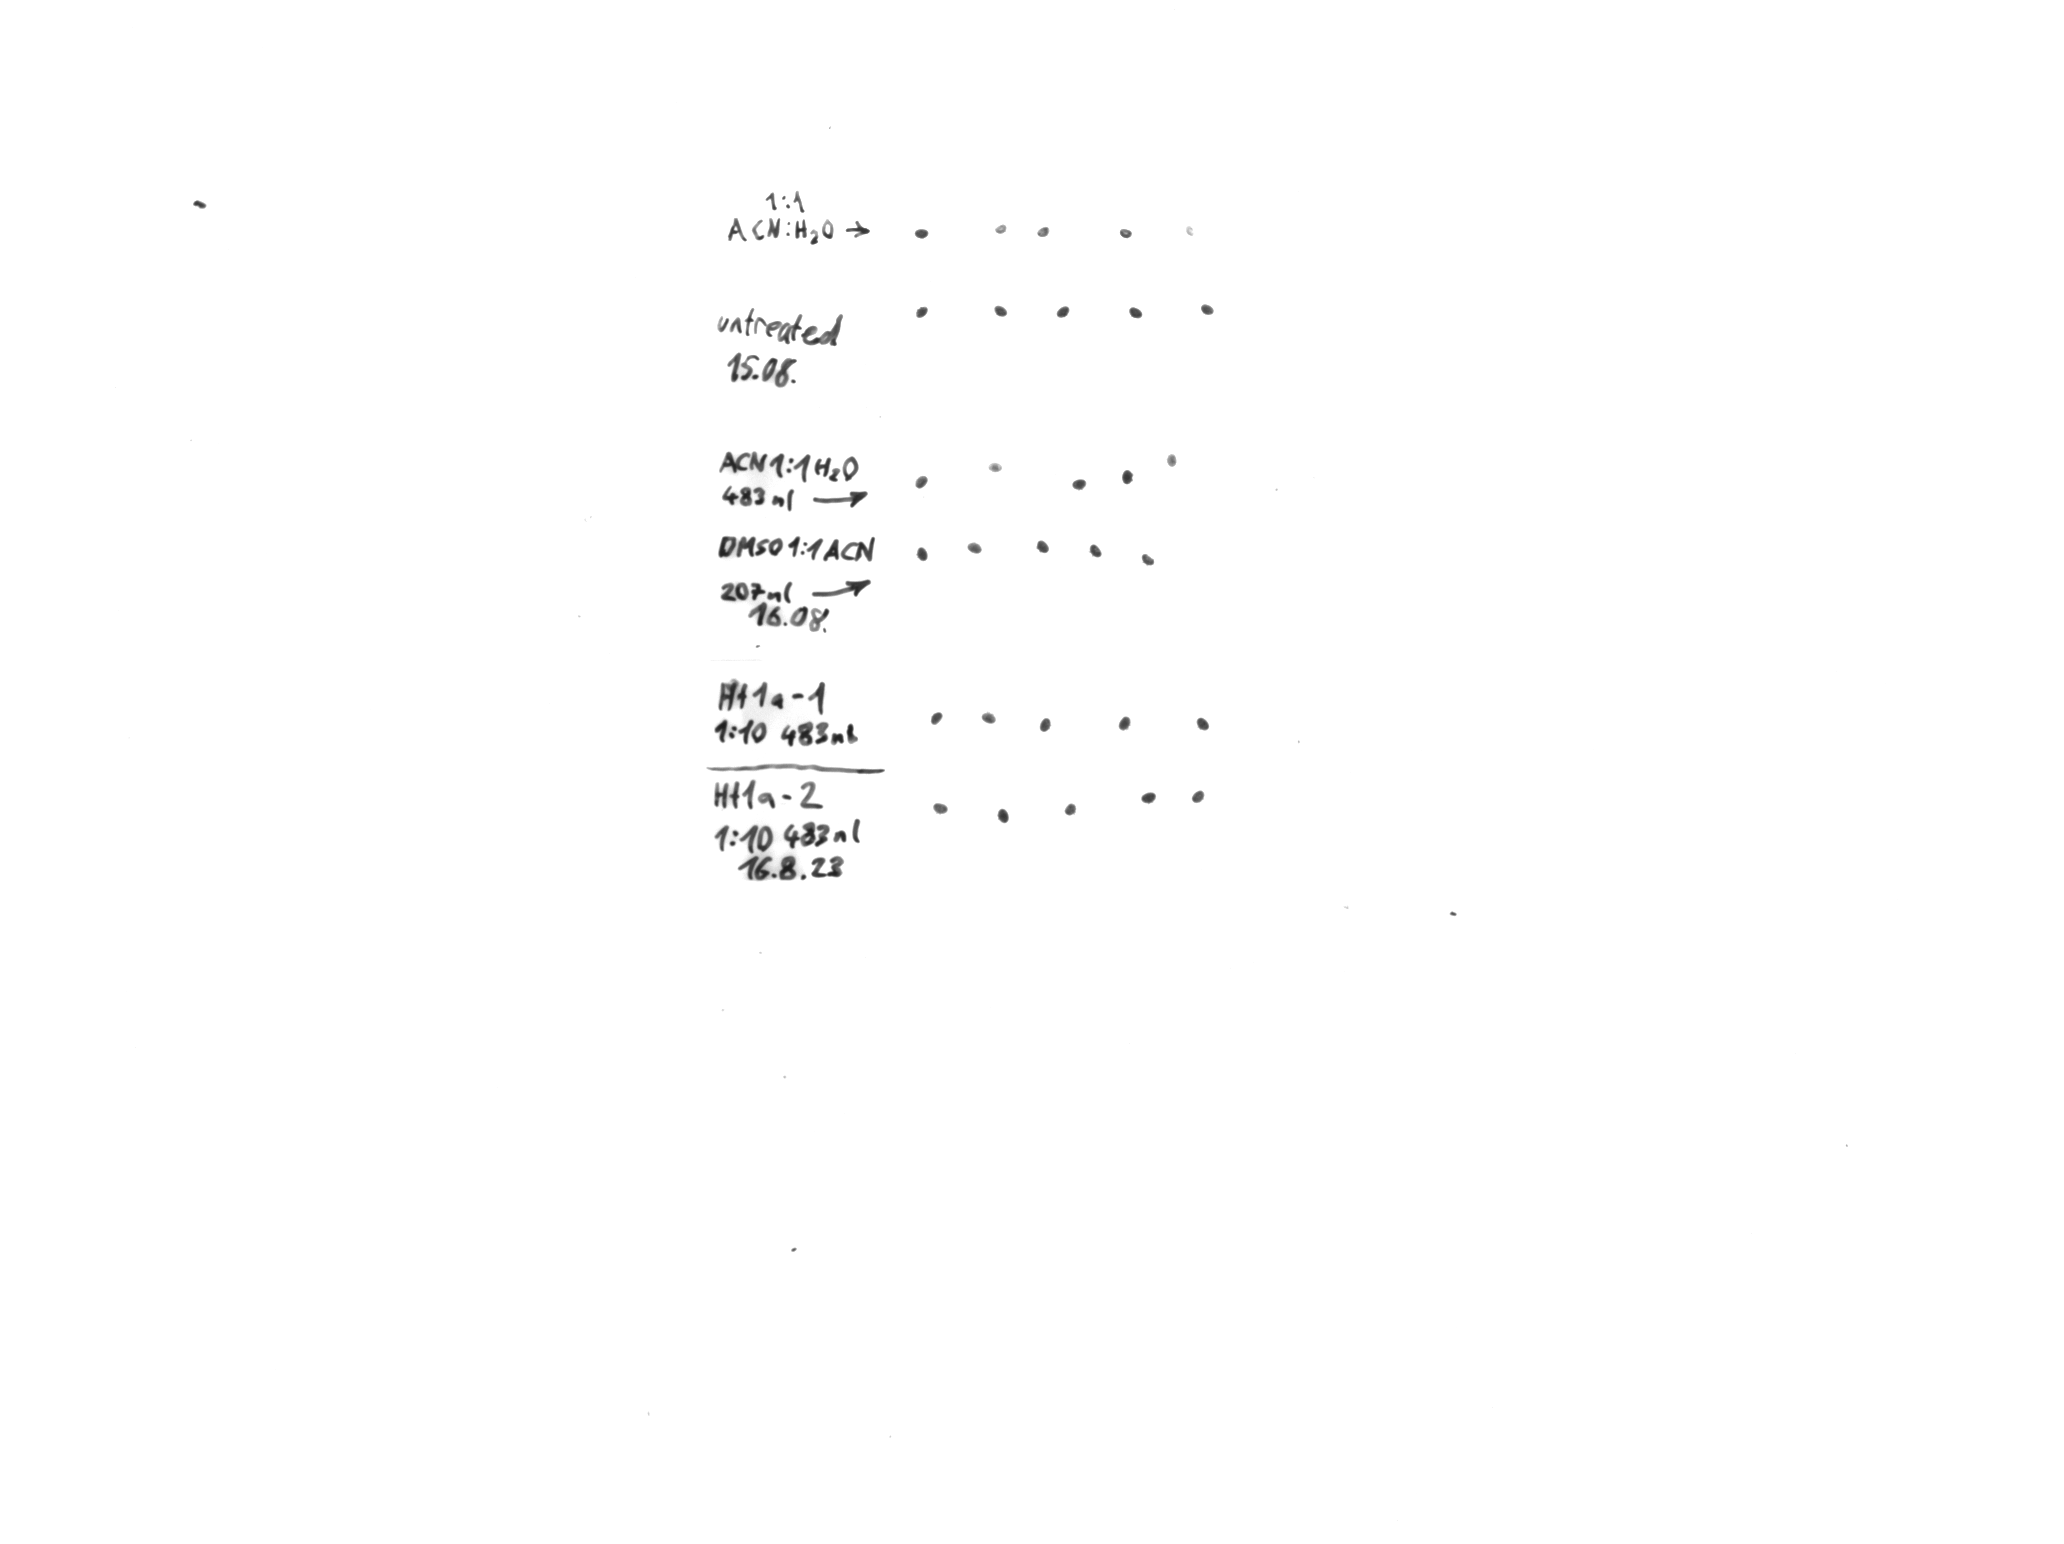varroa: (961, 540, 987, 556), (911, 472, 931, 491), (989, 302, 1010, 320), (1051, 303, 1073, 320), (1060, 800, 1080, 817), (1187, 788, 1208, 804), (1116, 715, 1133, 733), (994, 806, 1012, 824), (1164, 449, 1180, 469), (913, 545, 929, 564), (1034, 717, 1054, 733), (1068, 478, 1091, 491), (1034, 224, 1052, 240), (1033, 538, 1051, 555), (1120, 467, 1135, 487), (1138, 553, 1158, 568), (1138, 790, 1158, 804), (1197, 303, 1218, 316), (927, 710, 944, 727), (1127, 305, 1145, 320), (1195, 717, 1213, 731), (991, 222, 1010, 235), (1086, 545, 1106, 558), (931, 801, 950, 814), (984, 461, 1005, 472), (981, 710, 997, 725), (914, 225, 929, 240), (1117, 225, 1133, 238), (914, 305, 929, 318)
